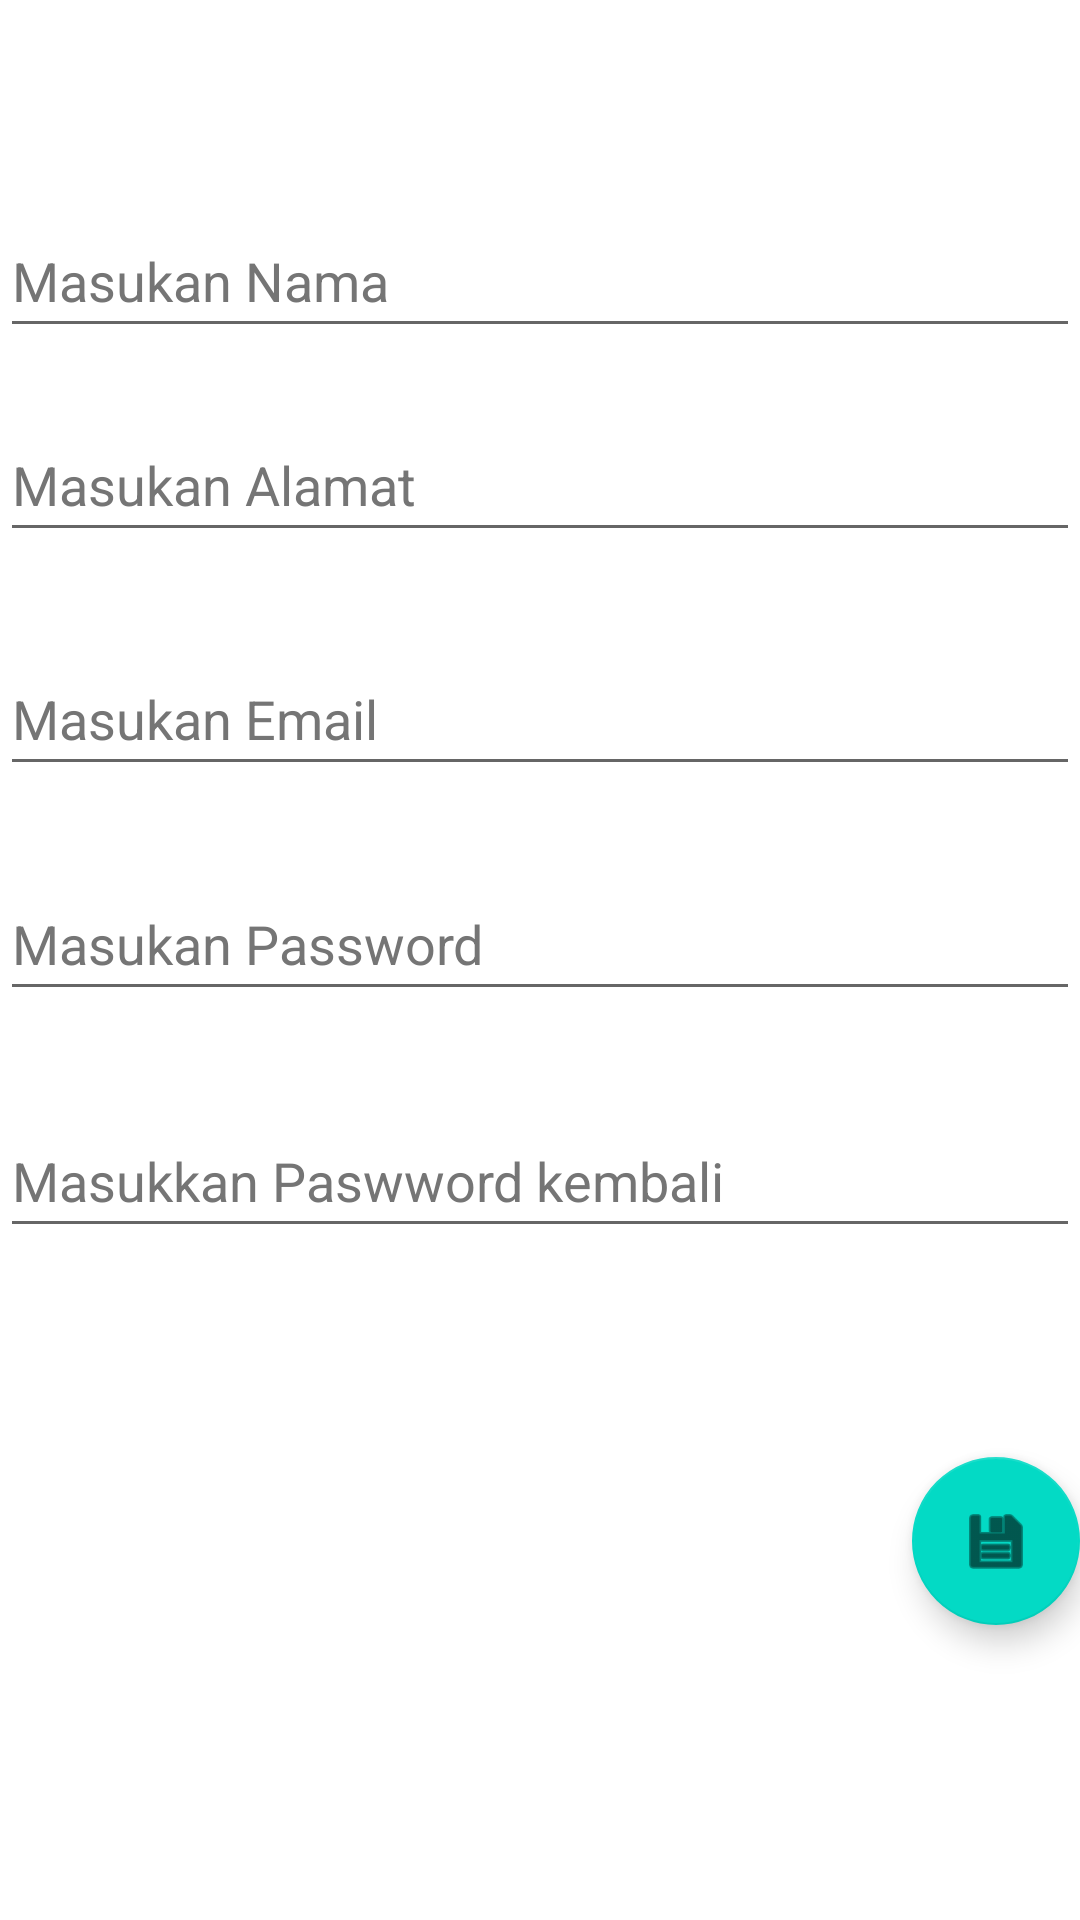

Locate icon controls on the screen. Image size 1080w x 1920h, boxes as (x1, y1, x2, y2).
save: (912, 1457, 1080, 1625)
